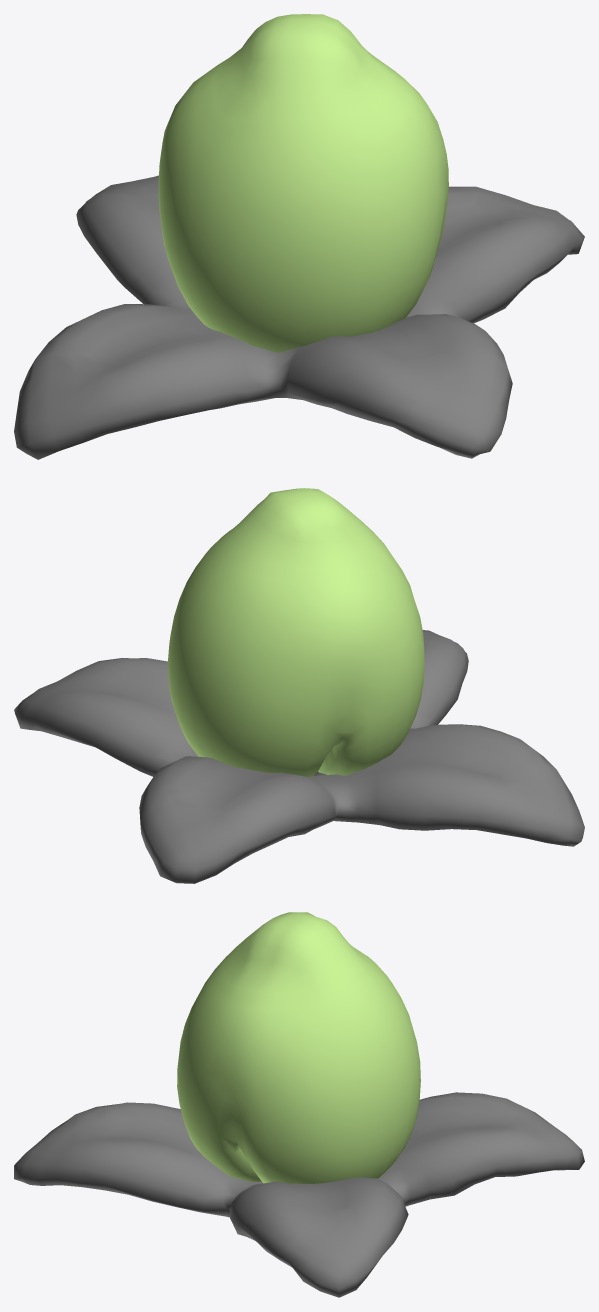
Rendered from LightPlant.fbx.
3 views of the same model, one above another, from view 1: azimuth 30°, elevation 25°; view 2: azimuth 150°, elevation 25°; view 3: azimuth 270°, elevation 25° (orthographic). The views are drawn at different scales.
Parts seen in each view (by area): view 1: Bulb_L, Base_L; view 2: Bulb_L, Base_L; view 3: Bulb_L, Base_L.
Part boxes in pixels (x1=…): Bulb_L: x1=158, y1=14, x2=448, y2=352; Base_L: x1=14, y1=175, x2=584, y2=459; Bulb_L: x1=167, y1=488, x2=424, y2=777; Base_L: x1=14, y1=630, x2=584, y2=883; Bulb_L: x1=177, y1=912, x2=420, y2=1183; Base_L: x1=14, y1=1092, x2=584, y2=1297.
Size of the model in its own units: 164 by 89.56 by 163.
